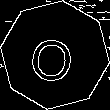O_N: (30, 27, 80, 83)
